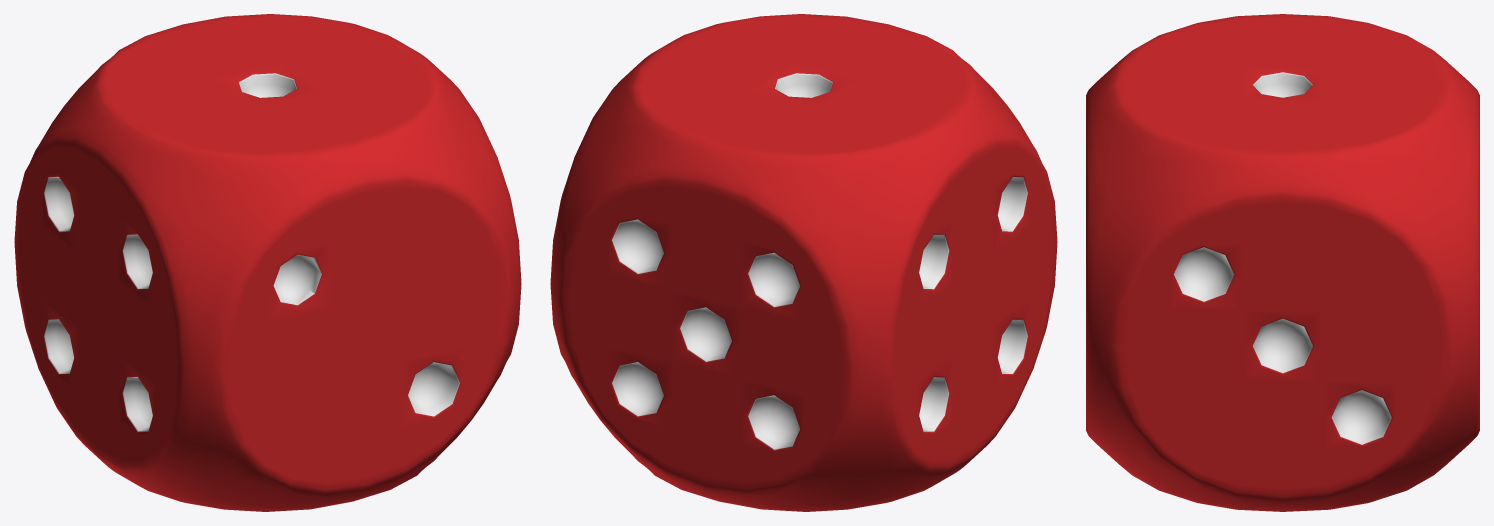
The model's file is Dice.fbx.
The picture shows the model from 3 angles, left to right: view 1: azimuth 30°, elevation 25°; view 2: azimuth 150°, elevation 25°; view 3: azimuth 270°, elevation 25°; orthographic projection.
Parts seen in each view (by area): view 1: g_Dice_Roundcube.001; view 2: g_Dice_Roundcube.001; view 3: g_Dice_Roundcube.001.
Part boxes in pixels (x1,y1,x2,y2): g_Dice_Roundcube.001: (14, 14, 521, 511); g_Dice_Roundcube.001: (550, 14, 1057, 511); g_Dice_Roundcube.001: (1086, 14, 1479, 511).
Size of the model in its own units: 254 by 254 by 254.
